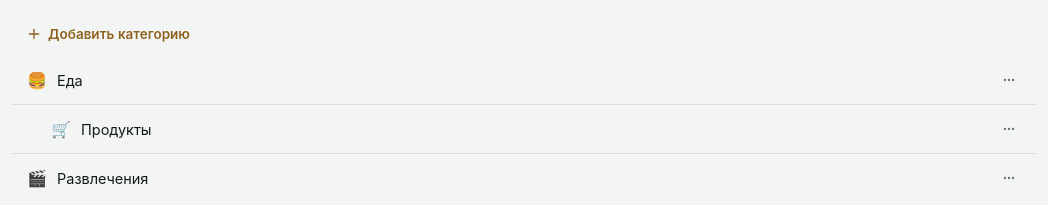
Test case: CategoryTree › reflects the revealed state on its own more-button via aria-expanded
Click the button with class "tree-row__more" in the row of "Еда" at x=1009, y=80, box [996,67,1022,93]
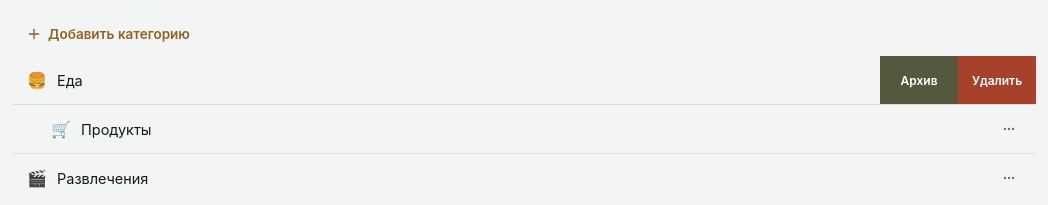
Now the button with class "tree-row__more" in the row of "Еда" is expanded, box [996,67,1022,93]
